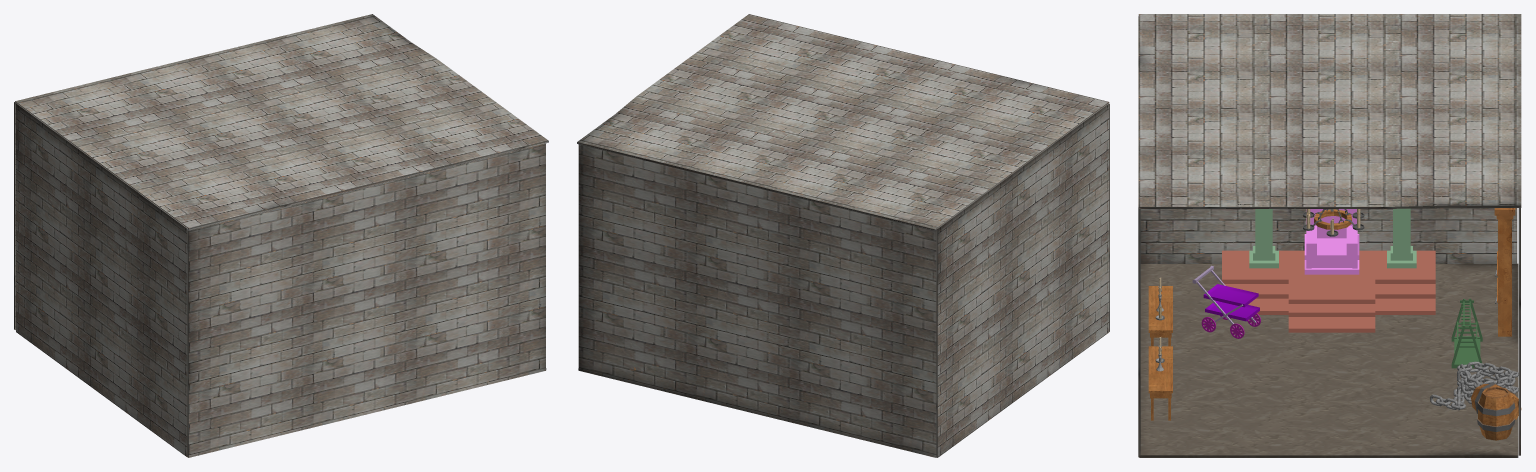
File: knight-fightroom.fbx
The picture shows the model from 3 angles, left to right: view 1: azimuth 30°, elevation 25°; view 2: azimuth 150°, elevation 25°; view 3: azimuth 270°, elevation 25°; orthographic projection. The views are drawn at different scales.
Visible parts, largest first — view 1: wall3, wall2, wall4; view 2: wall1, wall2, wall4; view 3: wall2, floor1, wall4, steb3, steb1, throne, steb2, cart, bookshelf, chains, barrel, katana (+8 smaller).
Boxes of the visible parts, x1,y1,x2,y2 form: wall3: [187, 143, 545, 457]; wall2: [15, 14, 548, 230]; wall4: [16, 103, 188, 457]; wall1: [578, 144, 937, 457]; wall2: [577, 14, 1109, 231]; wall4: [937, 103, 1109, 457]; wall2: [1138, 14, 1521, 208]; floor1: [1139, 263, 1518, 457]; wall4: [1140, 208, 1517, 263]; steb3: [1222, 250, 1435, 303]; steb1: [1248, 298, 1435, 332]; throne: [1304, 209, 1359, 274]; steb2: [1224, 284, 1435, 316]; cart: [1192, 265, 1260, 338]; bookshelf: [1494, 208, 1515, 336]; chains: [1430, 361, 1518, 410]; barrel: [1477, 386, 1515, 440]; katana: [1451, 298, 1482, 368].
Size of the model in its own units: 34.3 by 20.83 by 28.67.
